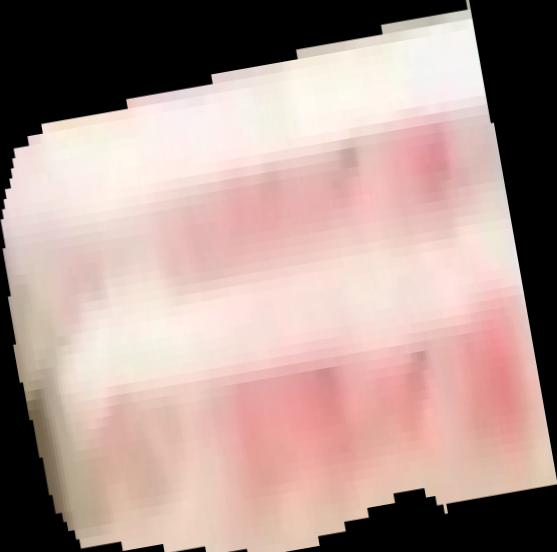flat: (1, 1, 557, 552)
